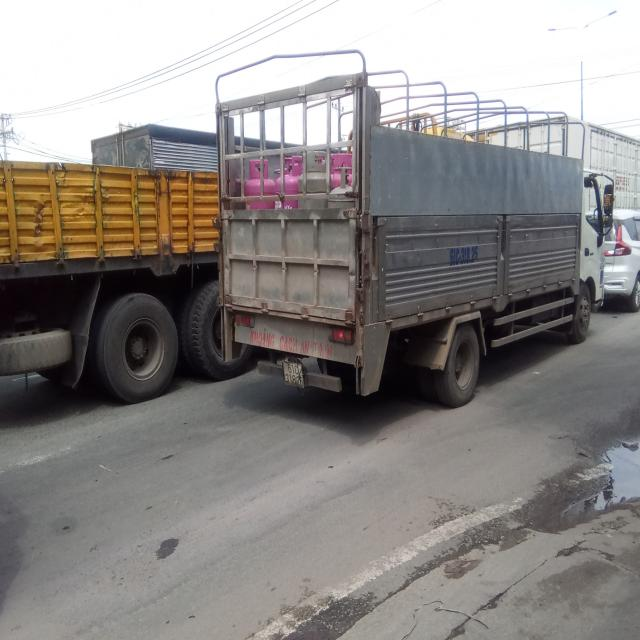bien_trang: (279, 357, 304, 386)
